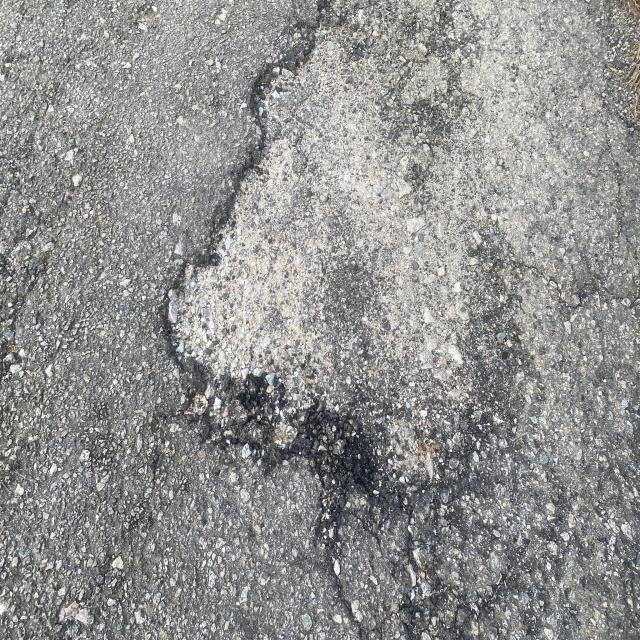Pothole: (146, 70, 374, 516)
